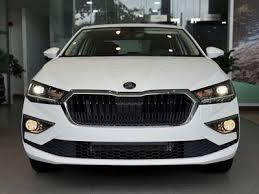skoda: (124, 83, 136, 89)
